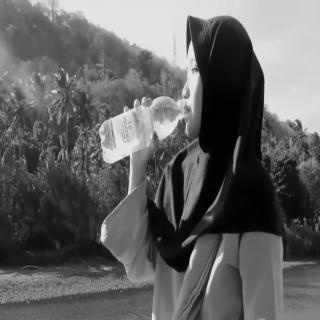plastic_bottles: (96, 91, 190, 168)
